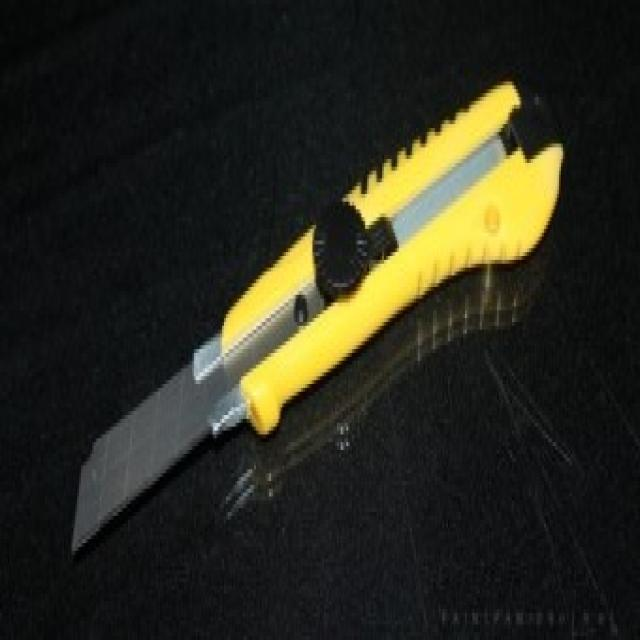cutter: (49, 83, 573, 582)
